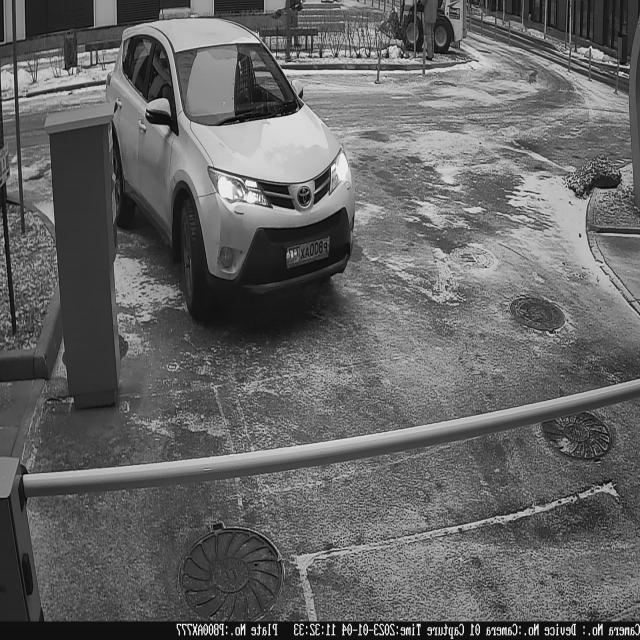car-plate-numbers: (285, 233, 333, 273)
